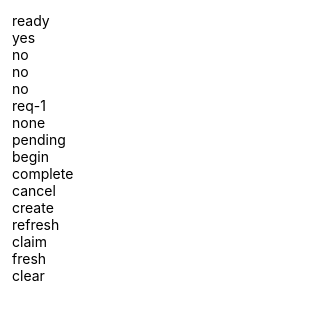
ParentalConsentProvider claim intent › FRESH UNDER-13 SIGNUP: completePostSignupClaim binds UID immediately without Sign-in message path
Check: the text with test id "hydrate" reads "ready", box [12,12,50,29]
Click the text with test id "begin-claim": x=30, y=156 [12,148,49,165]
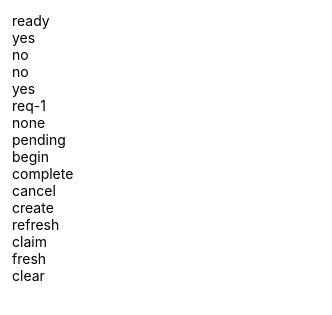
Check: the text with test id "awaiting" reads "yes", box [12,80,35,97]
Click the text with test id "complete-claim": x=43, y=174 [12,165,73,182]
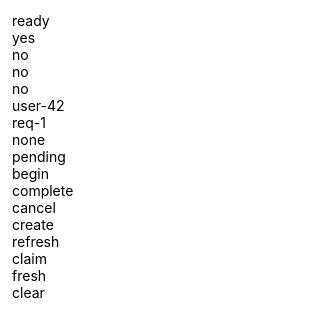
Check: the text "req-1" is shown, box [12,114,46,131]
Check: the text with test id "awaiting" reads "no", box [12,80,29,97]
Check: the text with test id "pending-uid" reads "user-42", box [12,97,65,114]
